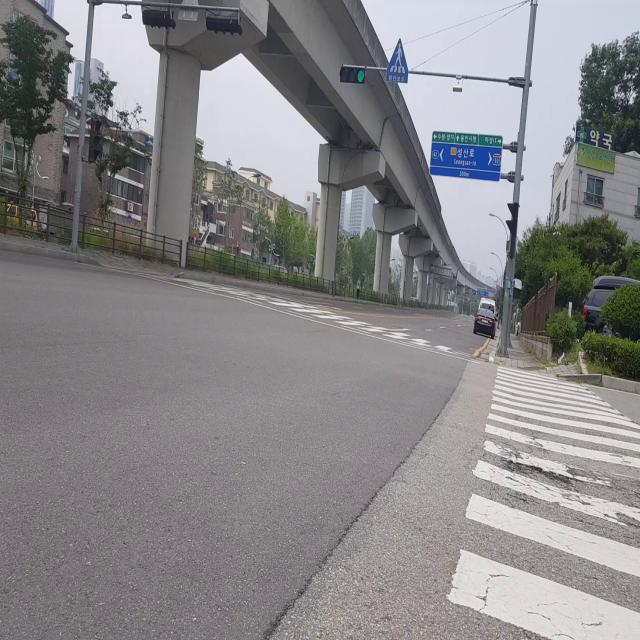횡단보도: (444, 364, 640, 640), (175, 279, 458, 356)
